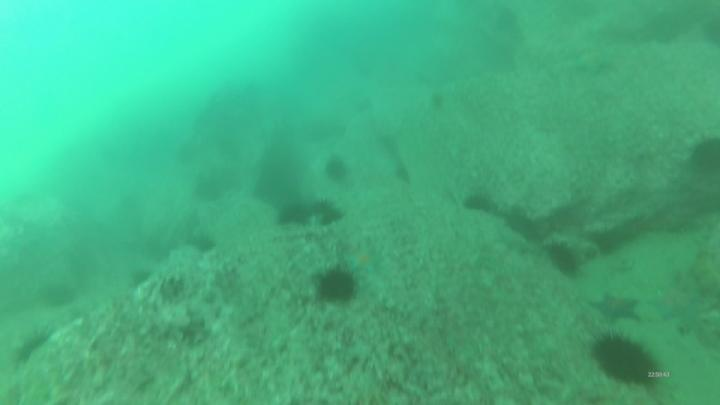echinus: (587, 331, 665, 394), (314, 263, 360, 307), (12, 328, 57, 366), (541, 240, 582, 281), (503, 212, 545, 246), (688, 135, 720, 178), (41, 281, 81, 311), (277, 203, 313, 228), (323, 154, 349, 185), (128, 266, 156, 293), (461, 191, 494, 213), (188, 233, 218, 254), (318, 210, 348, 229), (306, 200, 337, 218), (391, 159, 412, 185), (428, 91, 449, 112)
starfish: (650, 284, 702, 325), (586, 289, 641, 325), (342, 246, 386, 275)
